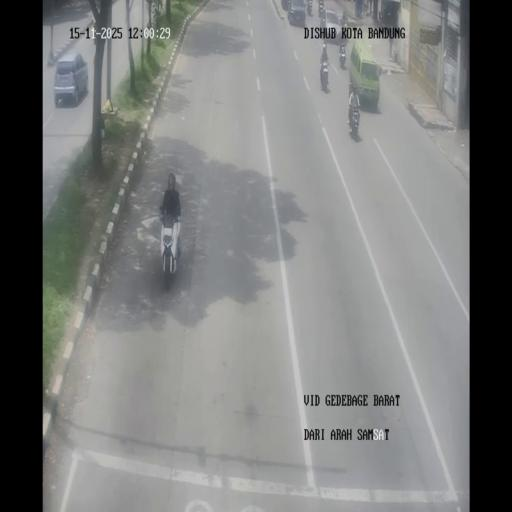car: (350, 40, 380, 108), (54, 50, 89, 106), (321, 9, 343, 42), (286, 0, 306, 25)
truck: (158, 207, 182, 288), (347, 87, 359, 135), (319, 58, 330, 92), (338, 45, 346, 69), (340, 11, 349, 29), (318, 0, 324, 16), (307, 0, 313, 16), (362, 0, 368, 16), (378, 10, 383, 23)
